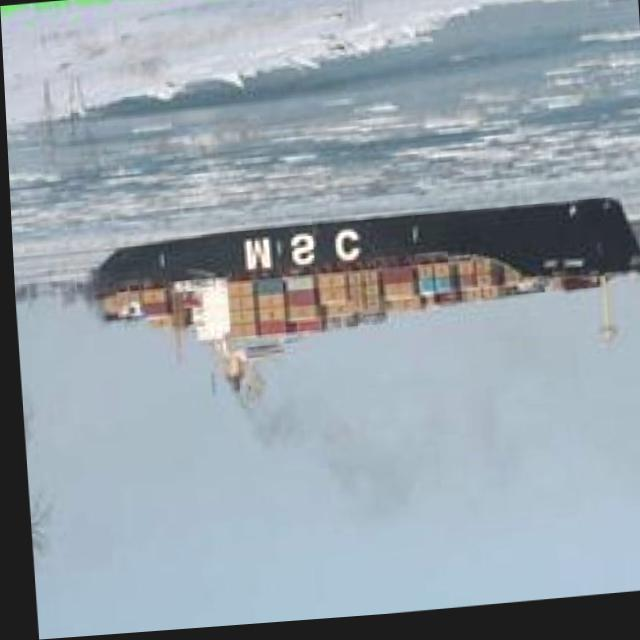ship2: (89, 205, 640, 396)
